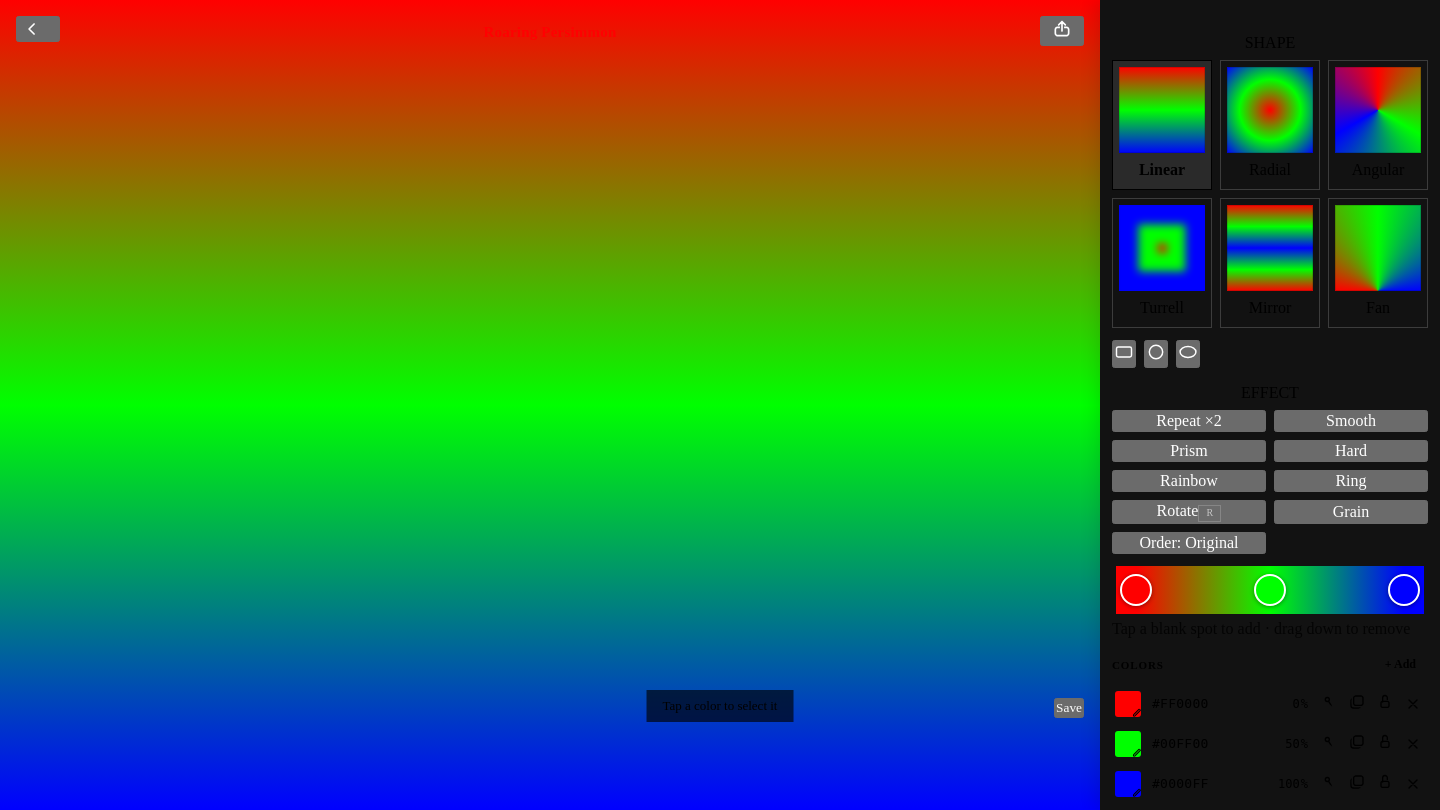
Test: EditMode › renders a save pill on the gradient (not in the sheet) that toggles the saved state
Click the button with test id "like-button" at (1069, 708), box [1054,698,1084,718]
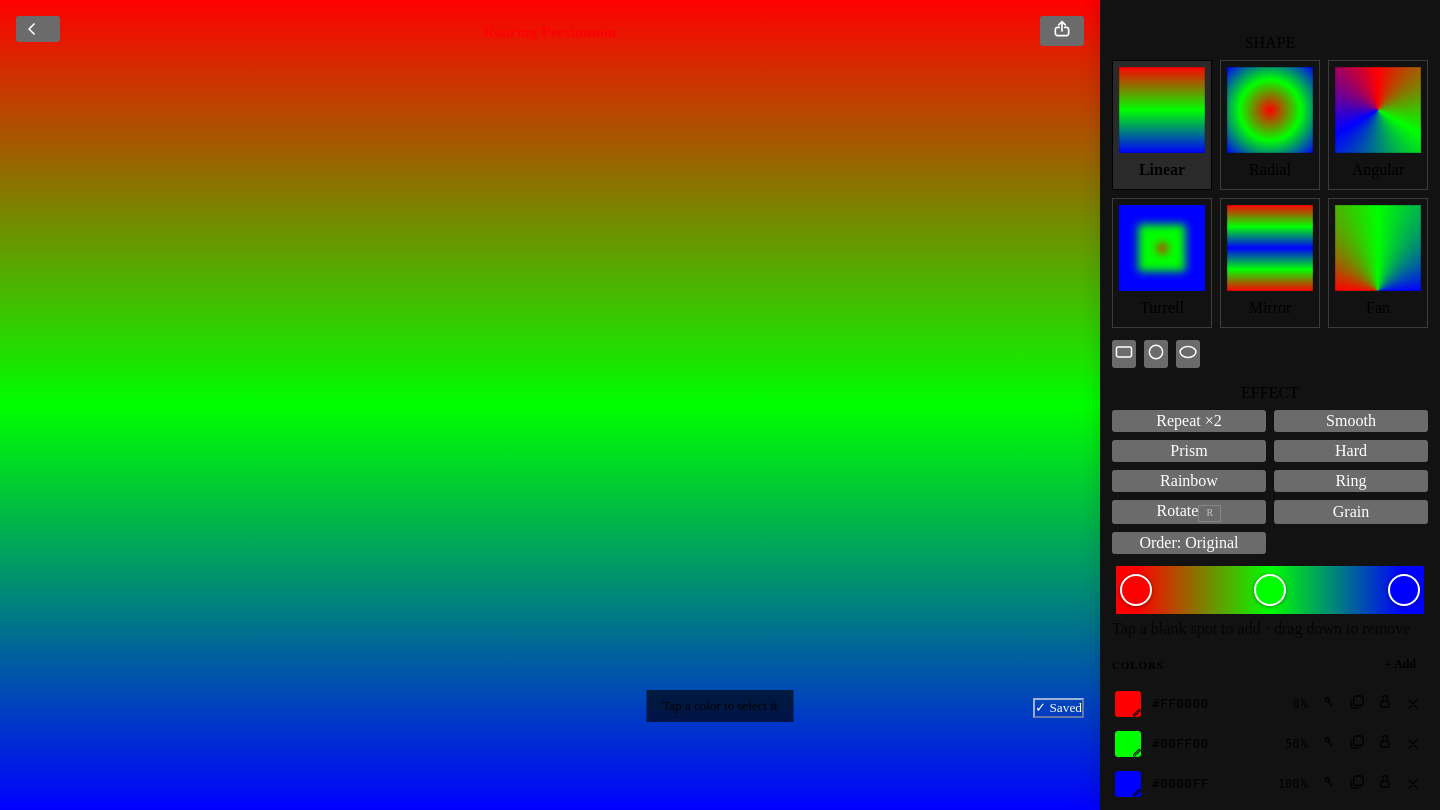
Expected: the button with test id "like-button" reads "✓ Saved", [1033,698,1084,718]
